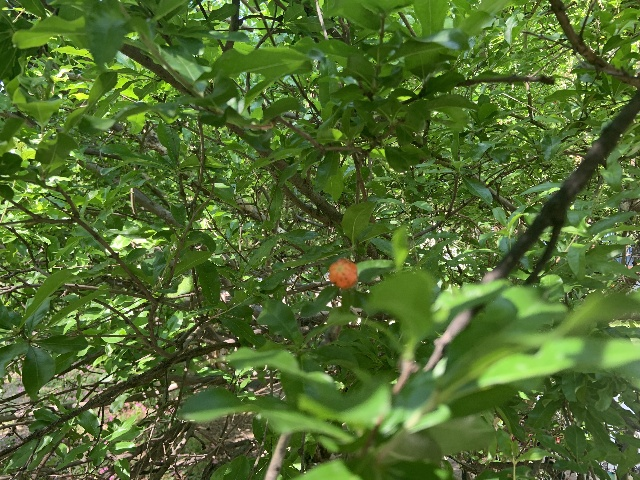bud: (328, 258, 357, 289)
